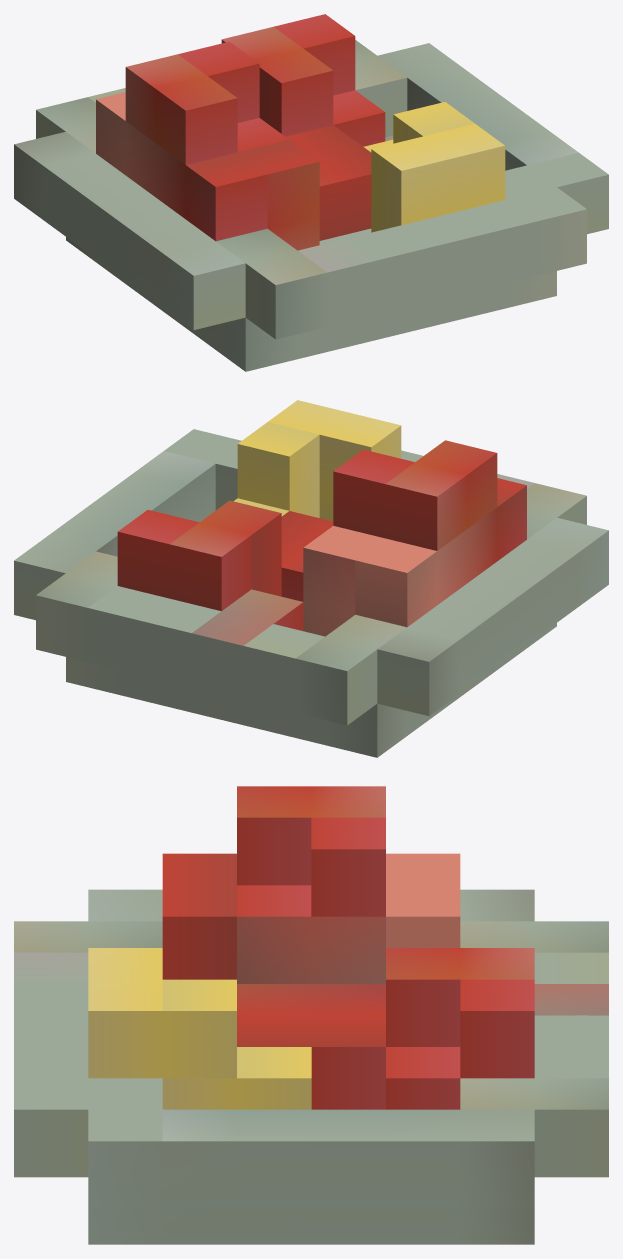
File: PlateWithFood_00.obj
3 views of the same model, one above another, from view 1: azimuth 30°, elevation 25°; view 2: azimuth 150°, elevation 25°; view 3: azimuth 270°, elevation 25° (orthographic). The views are drawn at different scales.
Parts seen in each view (by area): view 1: PlateWithFood_00; view 2: PlateWithFood_00; view 3: PlateWithFood_00.
Part boxes in pixels (<box>): PlateWithFood_00: <box>14,14,608,371</box>; PlateWithFood_00: <box>14,400,608,757</box>; PlateWithFood_00: <box>14,786,608,1244</box>.
Bounding box in the file's own units: 0.4 × 0.2 × 0.4.
